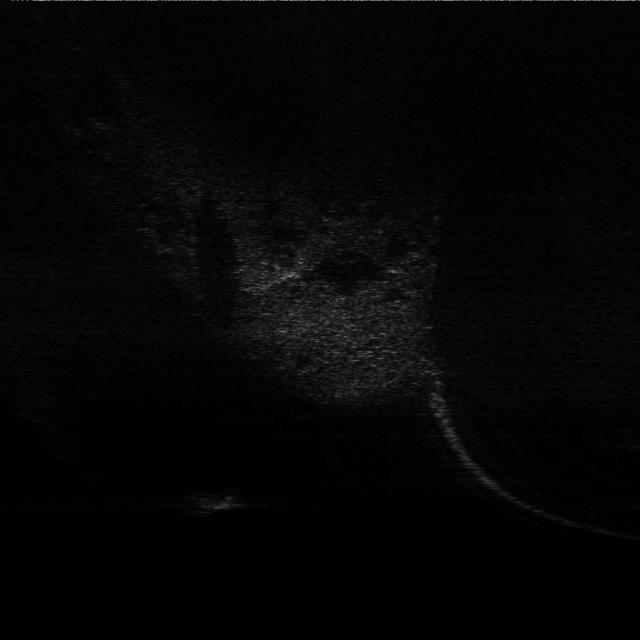square cage: (193, 479, 249, 516)
